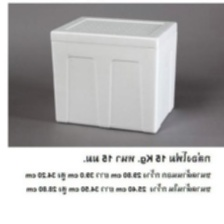foam_box: (46, 12, 182, 135)
